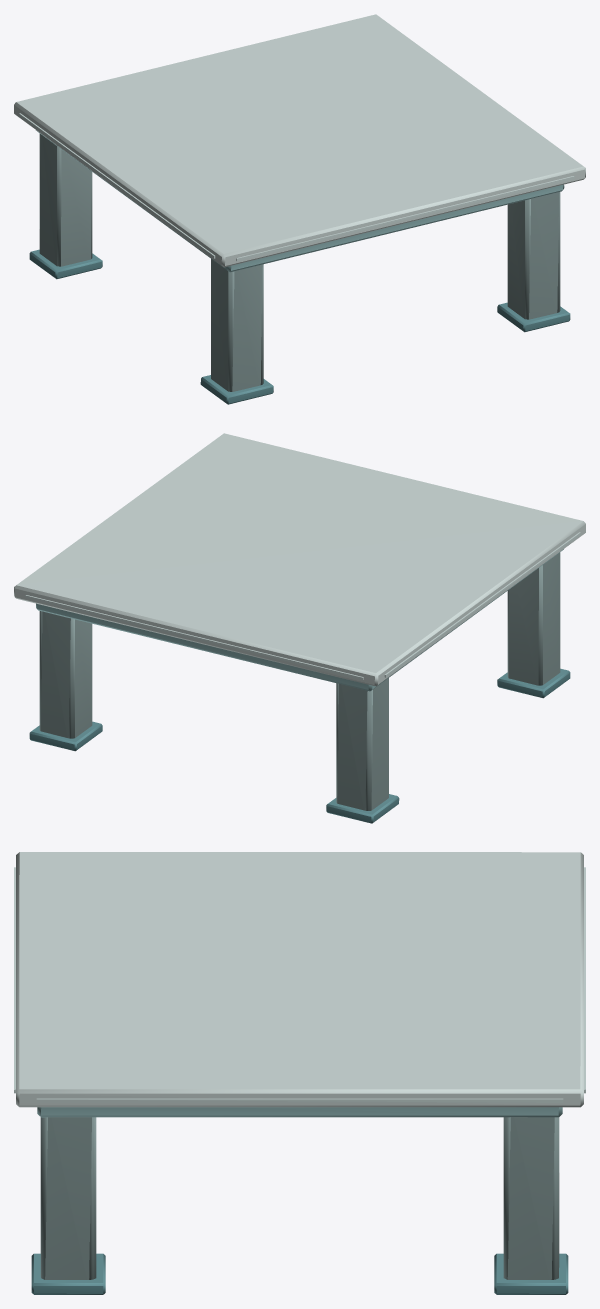
File: tower.lod.glb
3 views of the same model, one above another, from view 1: azimuth 30°, elevation 25°; view 2: azimuth 150°, elevation 25°; view 3: azimuth 270°, elevation 25° (orthographic). The views are drawn at different scales.
Visible parts, largest first — view 1: tower; view 2: tower; view 3: tower.
Boxes of the visible parts, x1,y1,x2,y2 form: tower: (14,14,585,404); tower: (14,433,585,823); tower: (14,852,585,1294).
Bounding box in the file's own units: 16.07 × 6.57 × 16.07.
